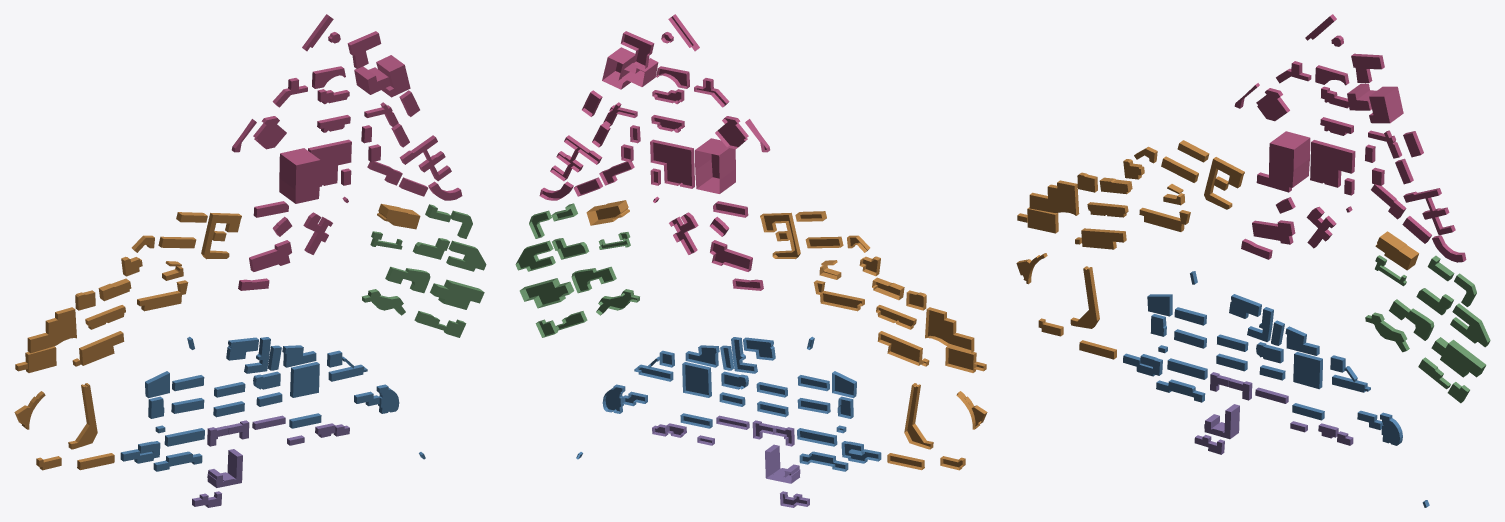
Rendered from buildings_flat.obj.
The picture shows the model from 3 angles, left to right: view 1: azimuth 30°, elevation 25°; view 2: azimuth 150°, elevation 25°; view 3: azimuth 330°, elevation 25°; orthographic projection.
Parts seen in each view (by area): view 1: roof1, roof2, roof4, zone1, roof3, zone2, zone4, roof5, zone3, zone5; view 2: zone1, zone2, zone4, roof1, roof2, roof4, roof3, zone3, zone5, roof5; view 3: roof1, roof2, roof4, zone1, roof3, zone2, zone4, zone3, roof5, zone5.
Boxes of the visible parts, x1,y1,x2,y2 form: roof1: (234,16,462,290); roof2: (17,209,420,470); roof4: (123,339,425,471); zone1: (231,14,460,290); roof3: (365,207,486,337); zone2: (14,203,419,470); zone4: (120,336,423,471); roof5: (195,418,349,507); zone3: (362,204,483,333); zone5: (192,415,349,507); zone1: (539,14,770,290); zone2: (586,200,987,470); zone4: (576,336,881,471); roof1: (542,16,766,288); roof2: (596,206,984,467); roof4: (605,339,878,468); roof3: (518,209,636,335); zone3: (515,203,639,337); zone5: (652,415,809,507); roof5: (655,418,806,505); roof1: (1234,16,1463,262); roof2: (1016,143,1411,359); roof4: (1123,273,1426,507); zone1: (1240,14,1466,261); roof3: (1365,257,1487,403); zone2: (1017,140,1418,359); zone4: (1123,271,1429,507); zone3: (1365,255,1490,402); roof5: (1194,374,1350,454); zone5: (1195,372,1353,454).
Size of the model in its own units: 1114 by 1059 by 67.28.
